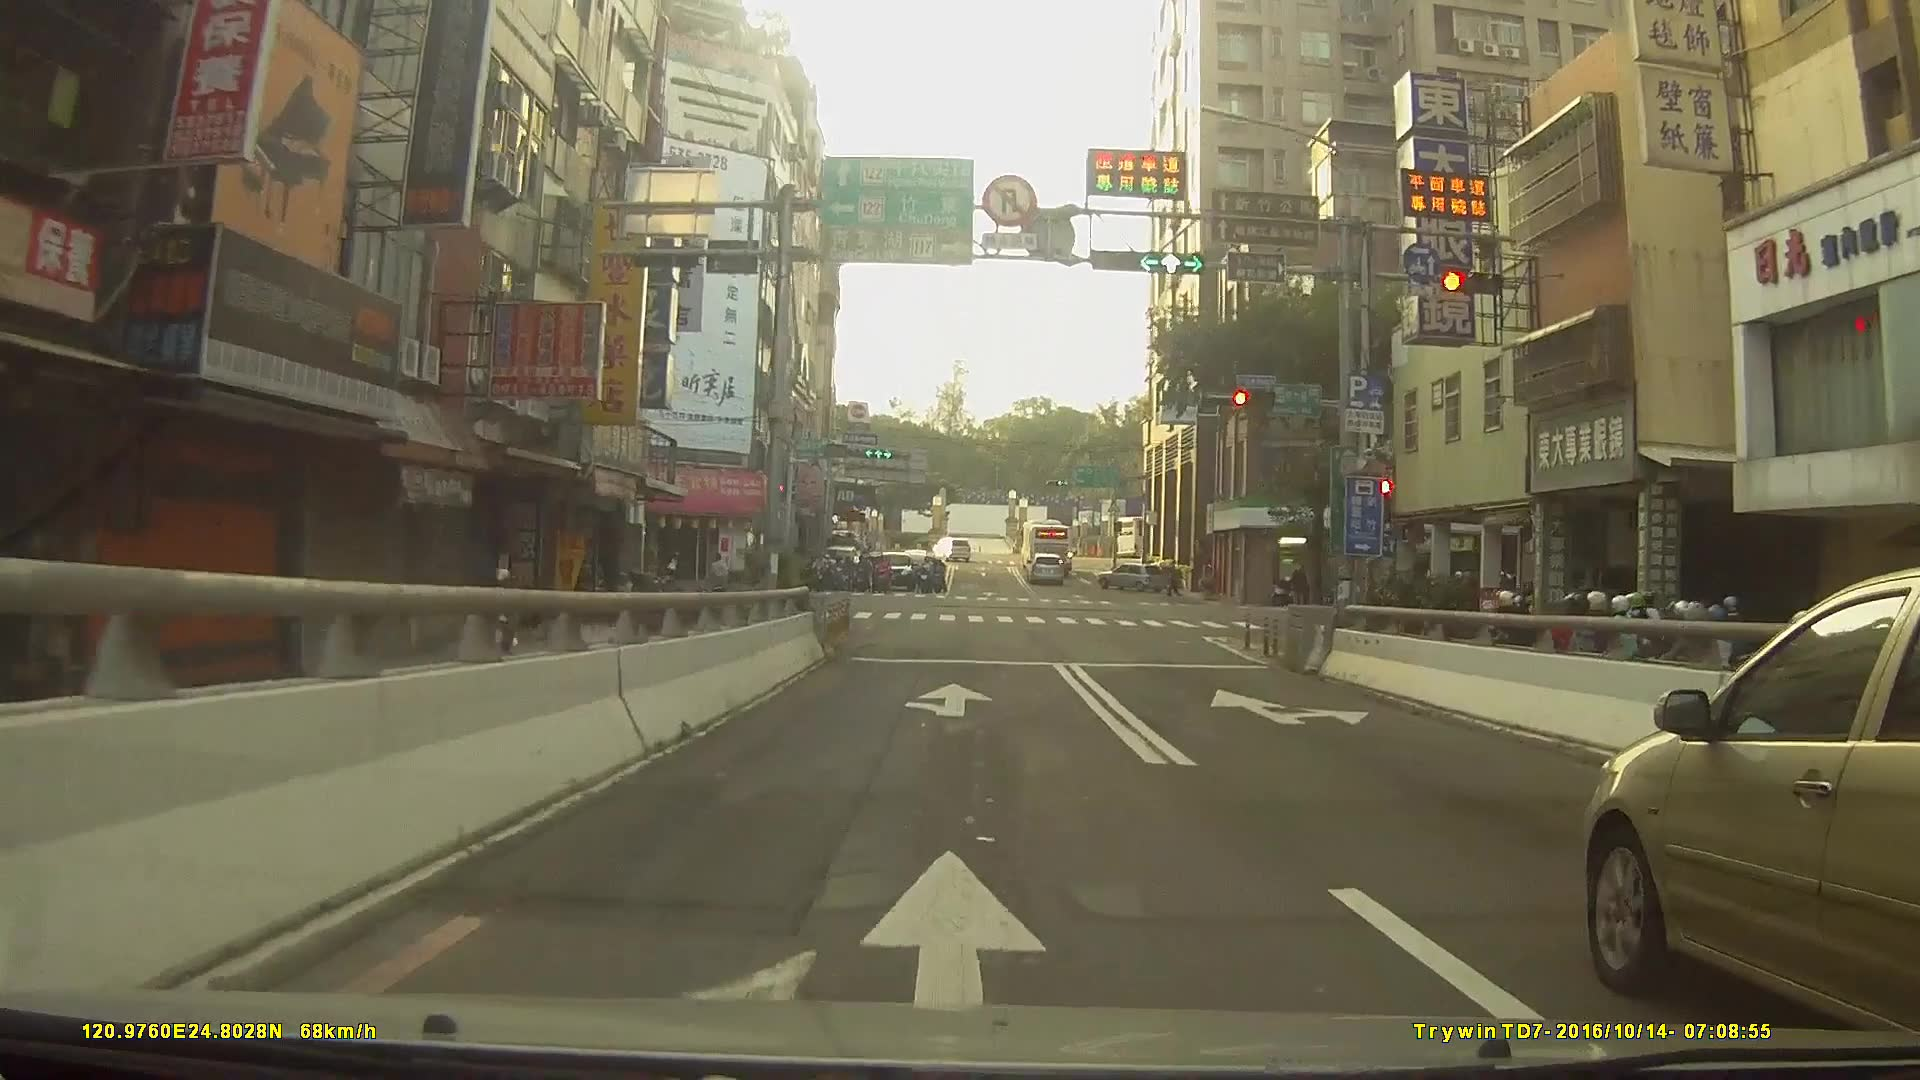pedestrian: (1288, 569, 1312, 610)
rider: (483, 569, 530, 683)
vehicle: (1583, 563, 1920, 1065), (1097, 559, 1172, 593), (1025, 520, 1073, 568), (873, 551, 916, 588), (1029, 549, 1067, 583), (929, 533, 970, 562)
